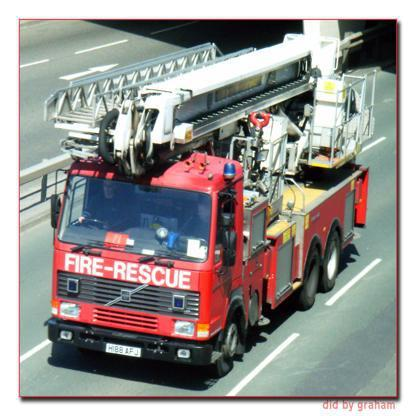fire-truck: (33, 36, 381, 388)
